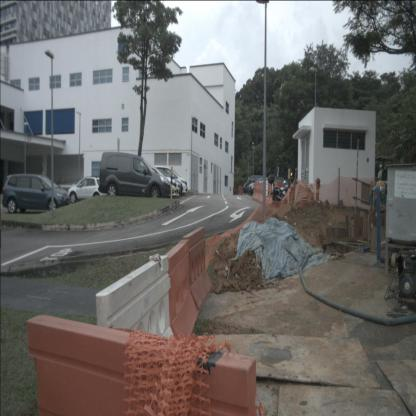movable_object-barrier: (27, 314, 257, 416), (96, 254, 181, 402), (159, 240, 202, 346), (180, 227, 212, 310)
vehicle-car: (99, 152, 171, 198), (2, 174, 70, 214), (131, 165, 177, 198), (150, 165, 188, 196), (68, 176, 108, 203), (250, 176, 290, 196), (243, 175, 267, 194), (249, 178, 273, 194)
vehicle-motorcycle: (268, 172, 294, 203)
